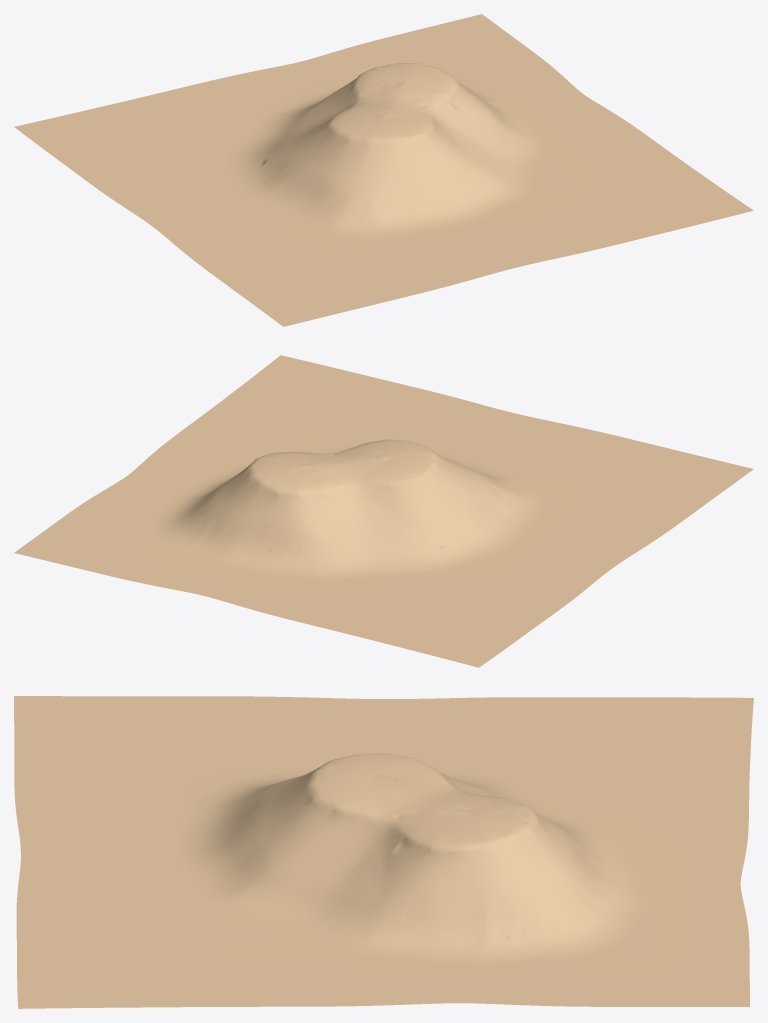
The model's file is Island.fbx.
3 views of the same model, one above another, from view 1: azimuth 30°, elevation 25°; view 2: azimuth 150°, elevation 25°; view 3: azimuth 270°, elevation 25° (orthographic). The views are drawn at different scales.
Parts seen in each view (by area): view 1: Grid; view 2: Grid; view 3: Grid.
Part boxes in pixels (left/top/right/bottom): Grid: left=14, top=14, right=753, bottom=326; Grid: left=14, top=355, right=753, bottom=667; Grid: left=14, top=696, right=753, bottom=1008.
Size of the model in its own units: 96.69 by 96.68 by 10.55.
